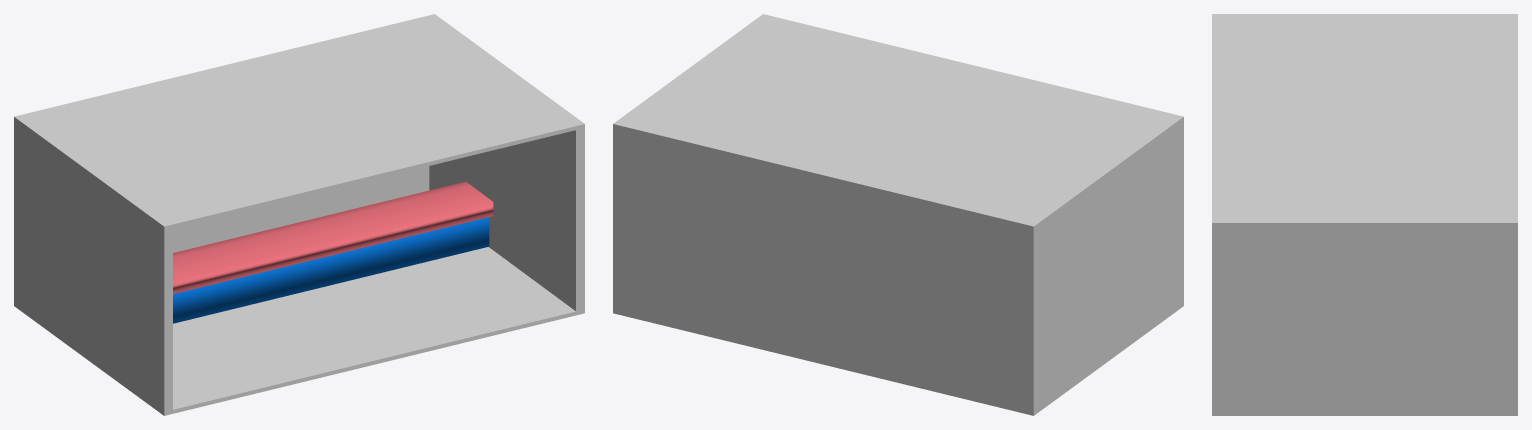
File: building-glass.glb
The picture shows the model from 3 angles, left to right: view 1: azimuth 30°, elevation 25°; view 2: azimuth 150°, elevation 25°; view 3: azimuth 270°, elevation 25°; orthographic projection.
Parts seen in each view (by area): view 1: Cube, Cube.003, Cube.002; view 2: Cube; view 3: Cube.
Boxes of the visible parts, bbox=[...] form: Cube: bbox=[14, 14, 584, 415]; Cube.003: bbox=[173, 181, 493, 294]; Cube.002: bbox=[173, 217, 489, 323]; Cube: bbox=[613, 14, 1183, 415]; Cube: bbox=[1212, 14, 1517, 415].
Bounding box in the file's own units: 21.34 × 9.18 × 13.19.
